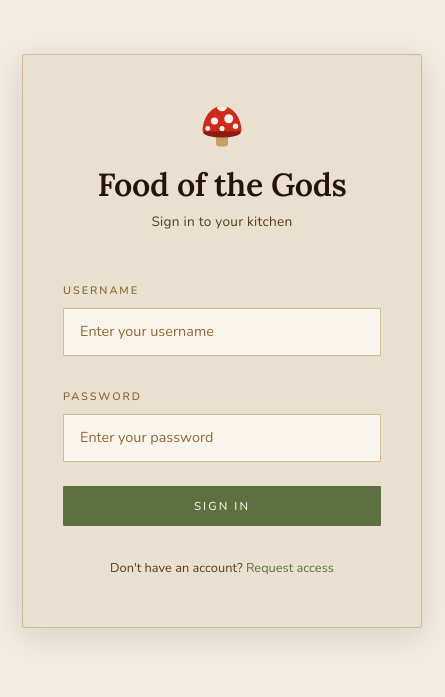
it: Login › shows error message when login fails
Type "testuser" into the field labelled "Username" at (222, 332), box [63, 308, 381, 356]
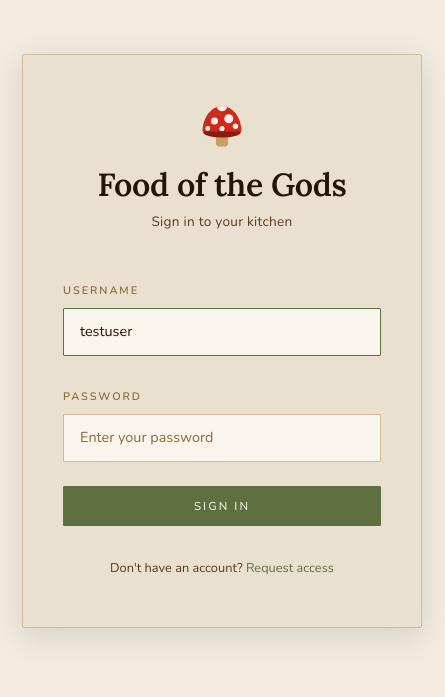
Type "wrongpass" into the password field labelled "Password" at (222, 438), box [63, 414, 381, 462]
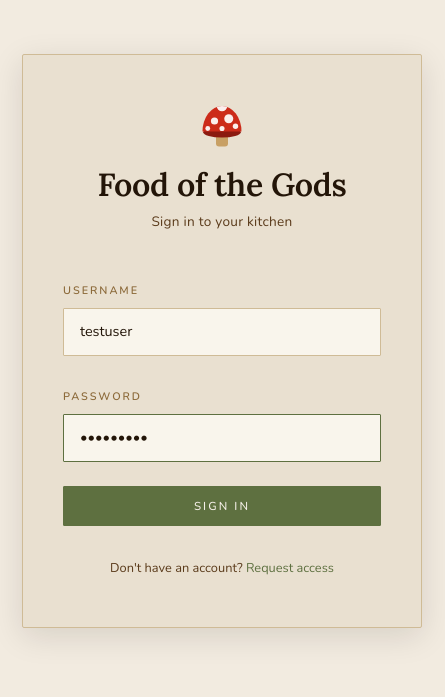
Click the button "Sign In" at (222, 506), box [63, 486, 381, 526]
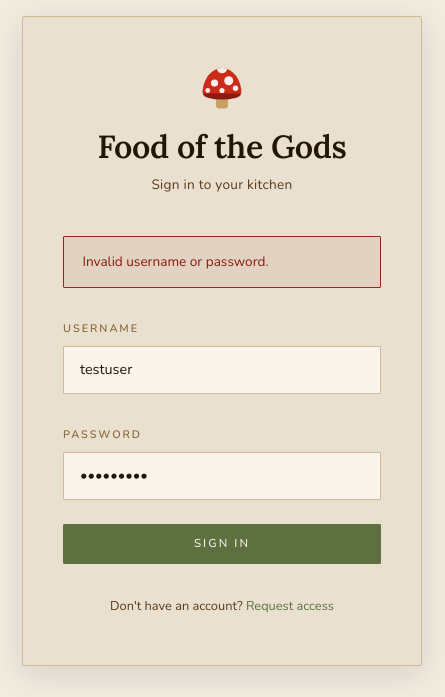
Now the text "Invalid username or password." is shown, box [63, 236, 381, 288]
